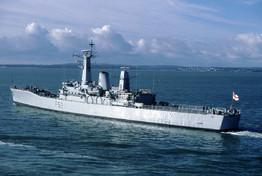warship: (8, 38, 242, 131)
